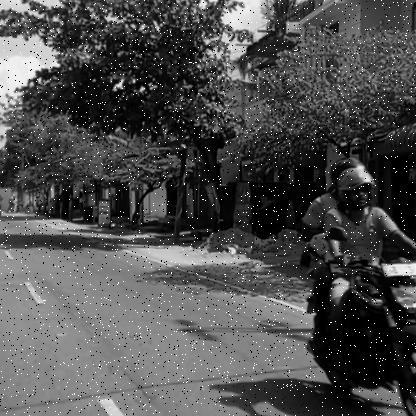motorcycle: (303, 258, 416, 416)
